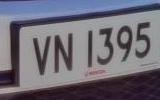1: (81, 25, 97, 71)
3: (95, 25, 118, 70)
5: (133, 19, 155, 61)
9: (115, 22, 134, 63)
N: (53, 28, 76, 80)
V: (31, 31, 53, 82)
